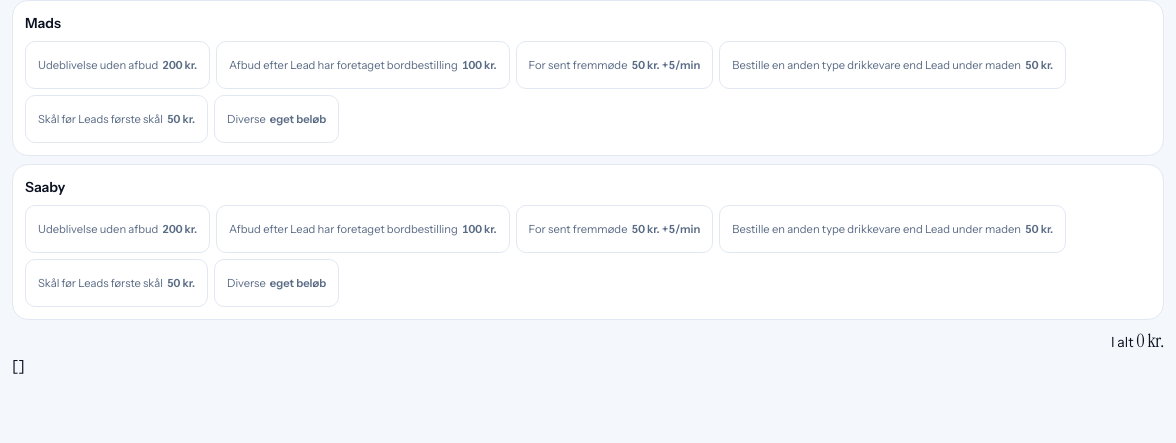
it: opening the field and tapping away records nothing
Step 1. Click the 1st button "For sent fremmøde 50 kr. +5/min" → (614, 65), box [516, 41, 713, 89]
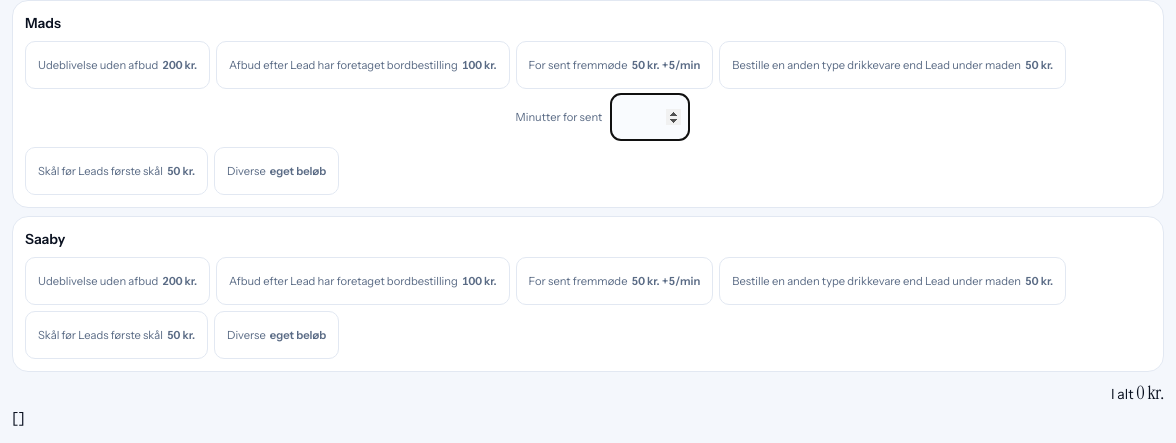
Step 2. Click the heading "Saaby" → (45, 239), box [25, 230, 65, 248]
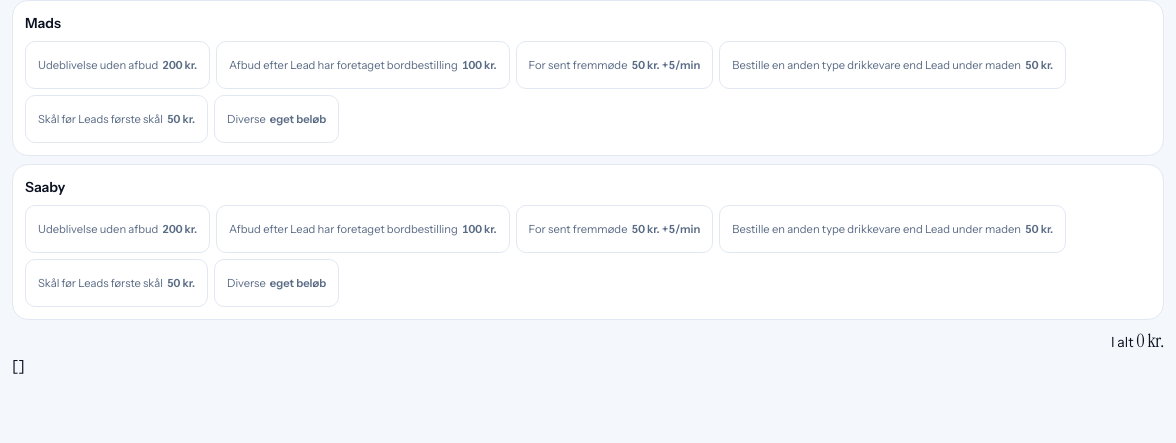
Now the label labelled "Minutter" is gone
